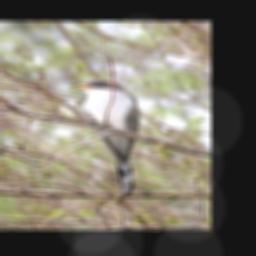Cuckoo: (69, 78, 143, 192)
